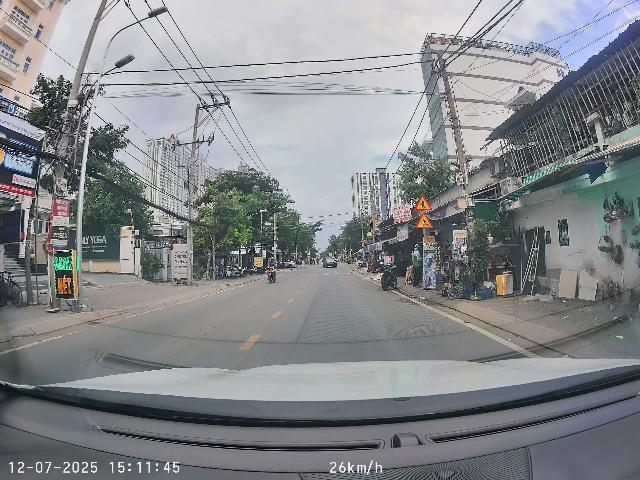207-giao-nhau-voi-duong-khong-uu-tien: (414, 194, 432, 210)
224-duong-nguoi-di-bo-cat-ngang: (416, 212, 434, 228)
